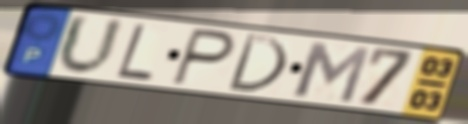7: (359, 45, 420, 109)
D: (224, 31, 290, 95)
L: (114, 21, 156, 83)
M: (290, 39, 374, 106)
P: (168, 25, 239, 89)
U: (54, 12, 128, 79)
